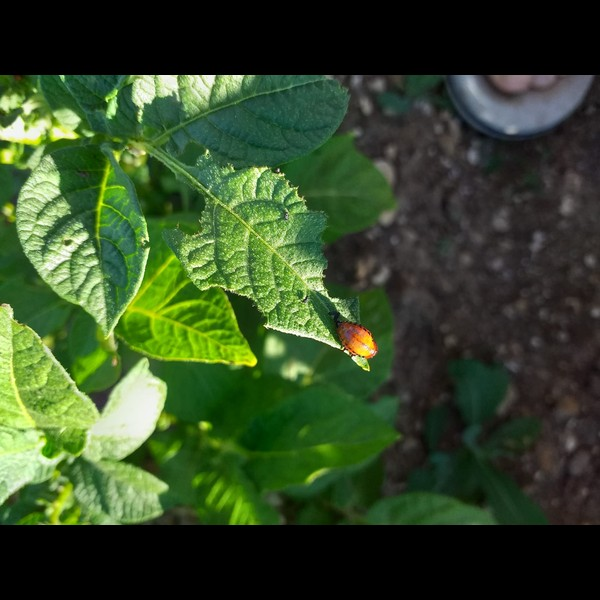hrosc: (333, 318, 379, 360)
